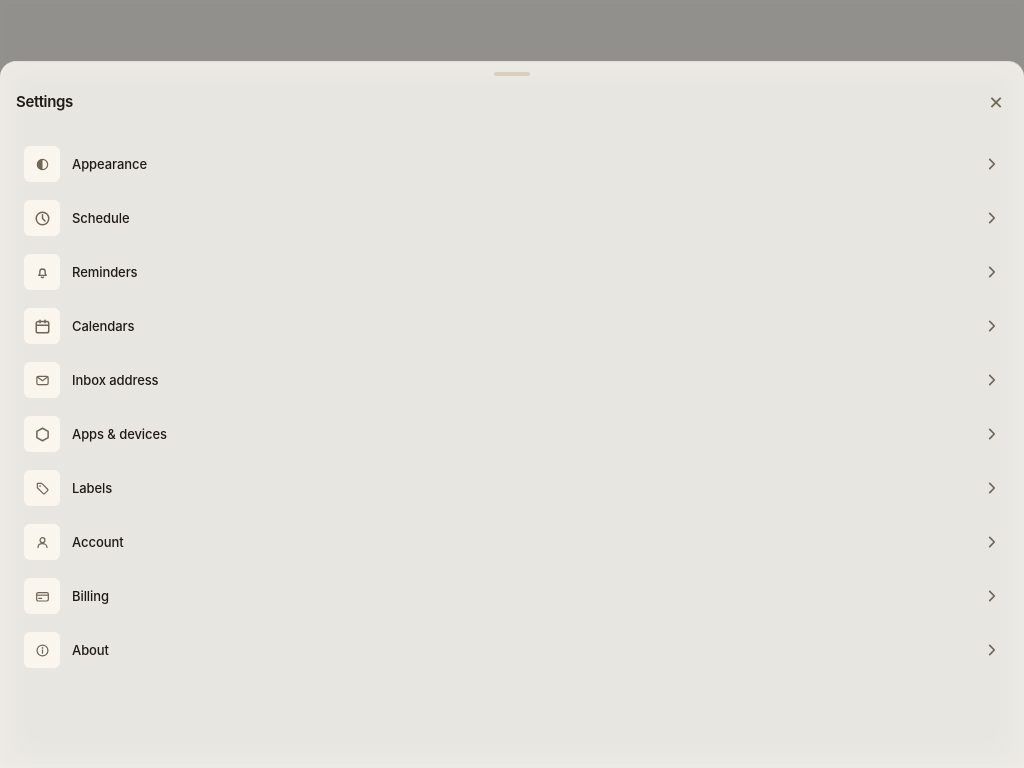
Test: Settings → About · Download for Mac › hides the DMG on the phone — About is version, not a Mac installer
Click the button "About" at coordinates (42, 650), box [12,624,1012,676]
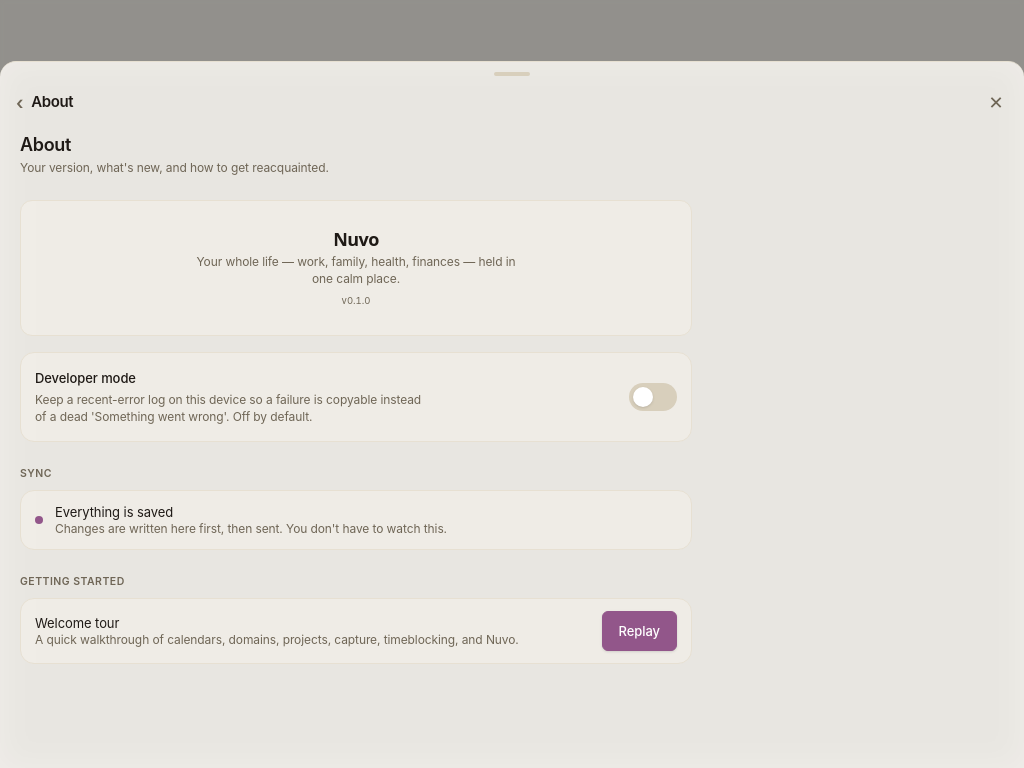
Now the text "held in one calm place" is shown, box [196,254,516,286]
